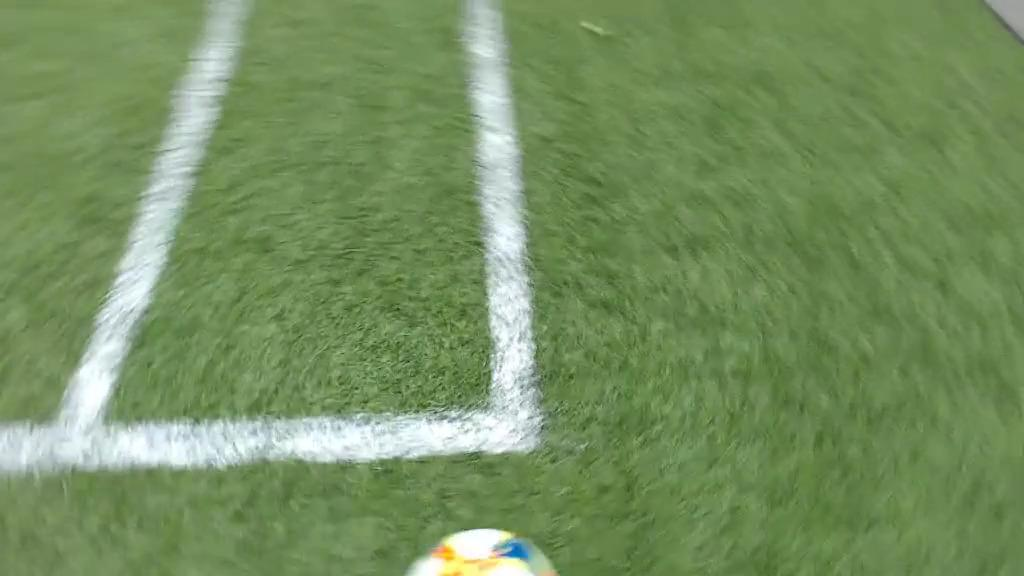ball: (409, 528, 557, 576)
